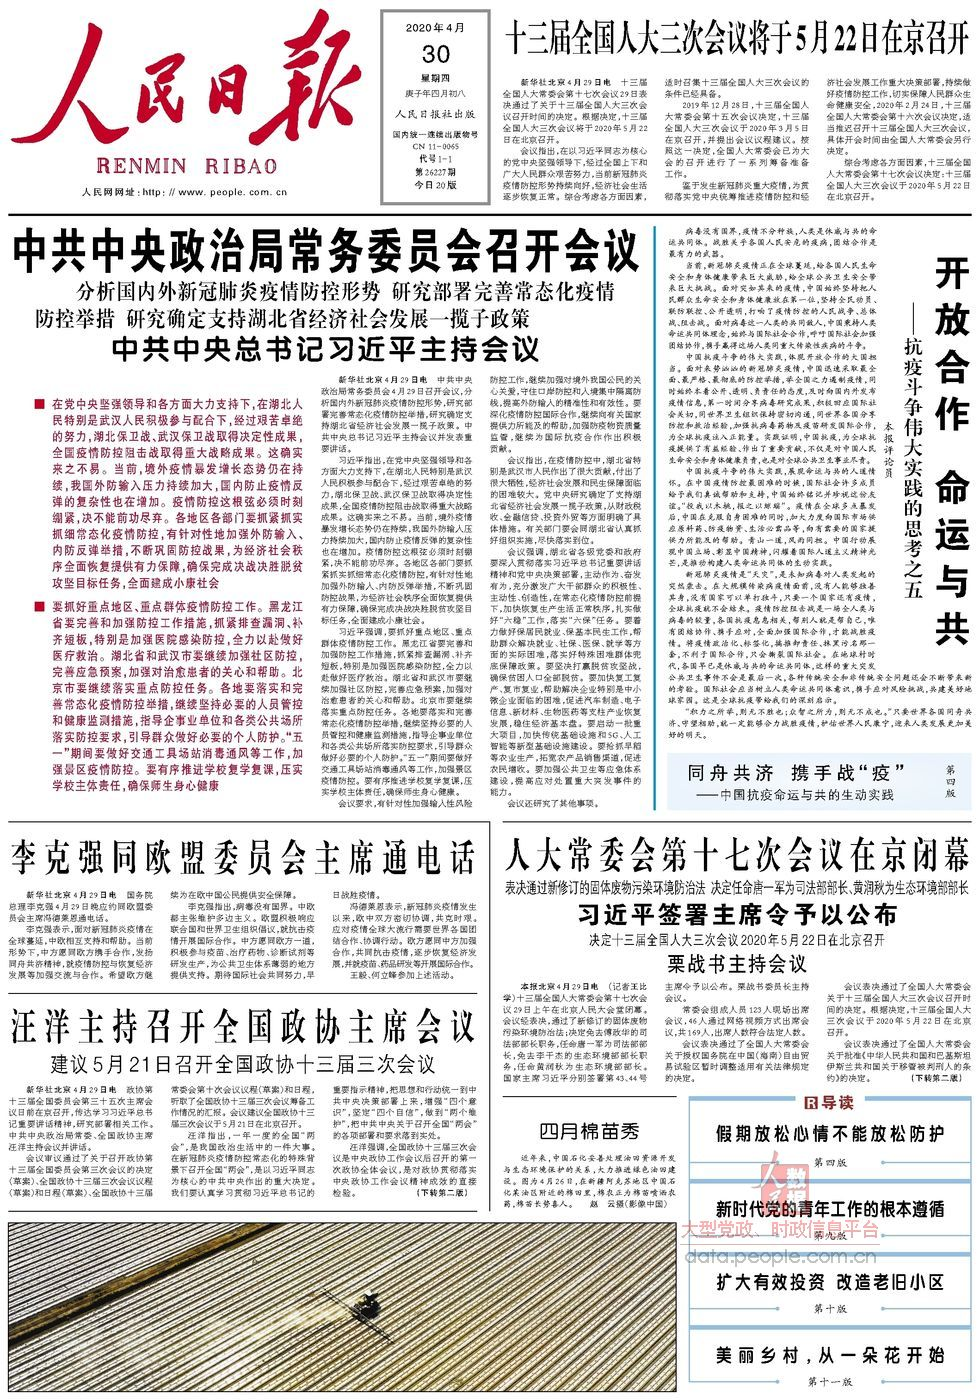pic: (3, 1217, 681, 1398)
